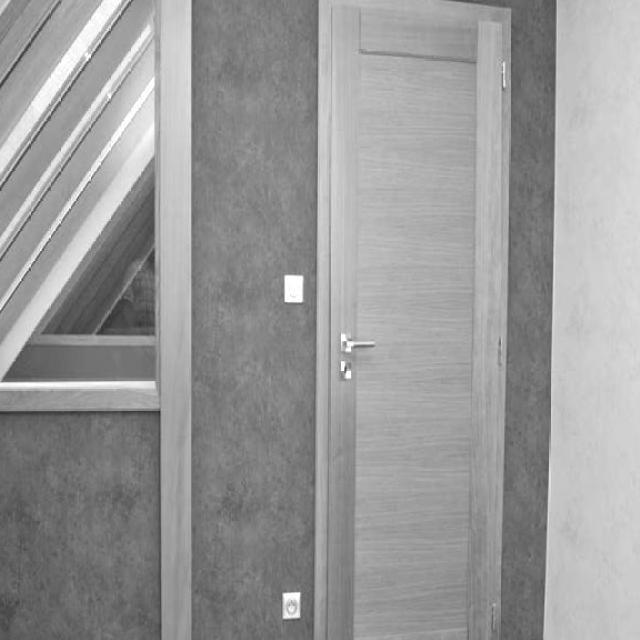door: (316, 0, 511, 639)
